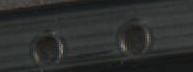joints: (115, 15, 153, 59), (29, 26, 67, 66)
